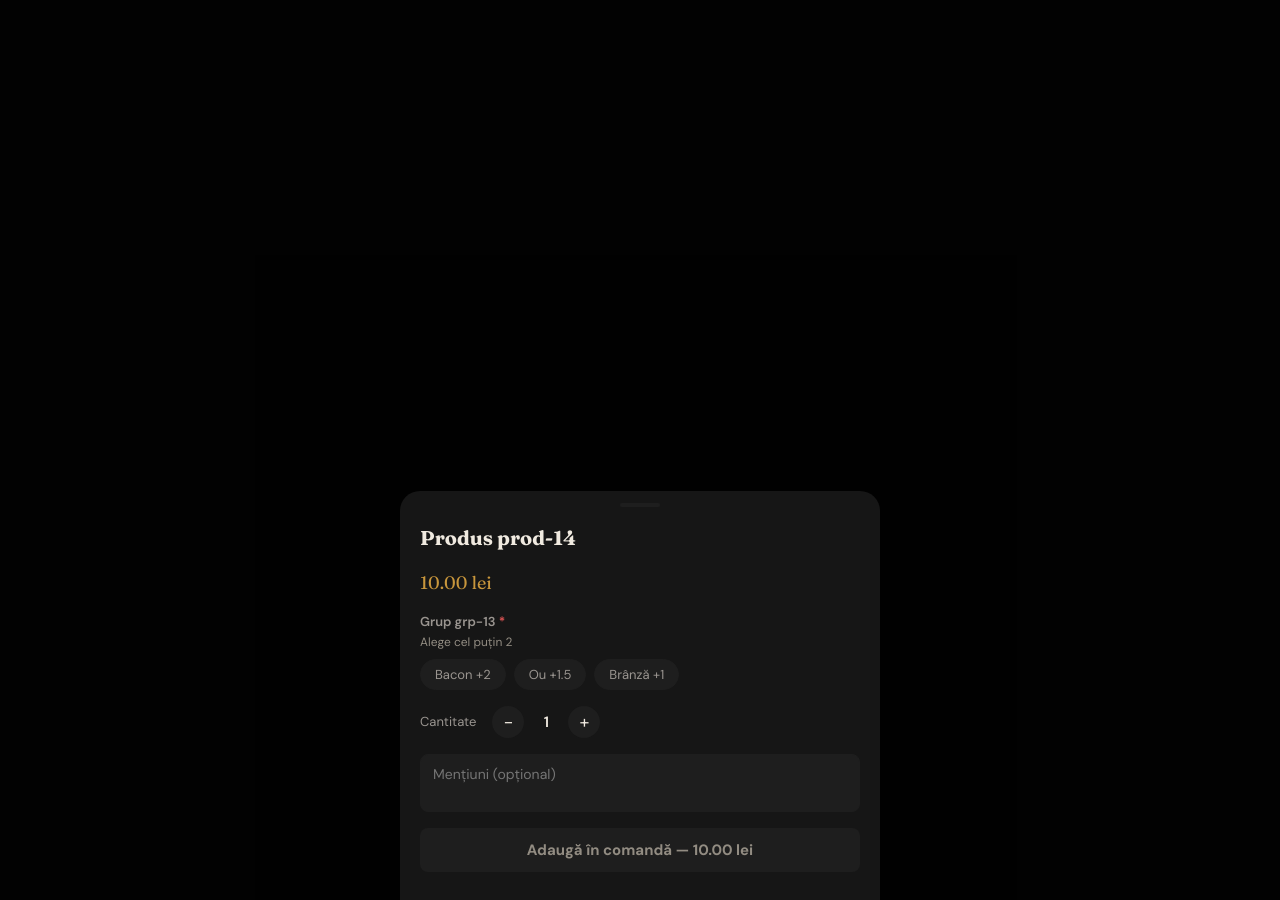
Test case: ModifierSheet — matematica banilor + gating server-parity › grup multiplu cu min_select=2: blocat sub 2 selecții, deblocat la 2
Check: the button "Adaugă în comandă — 10.00 lei" is disabled, box [420,828,860,872]
Click the button "Bacon +2" at (463, 674), box [420,659,506,690]
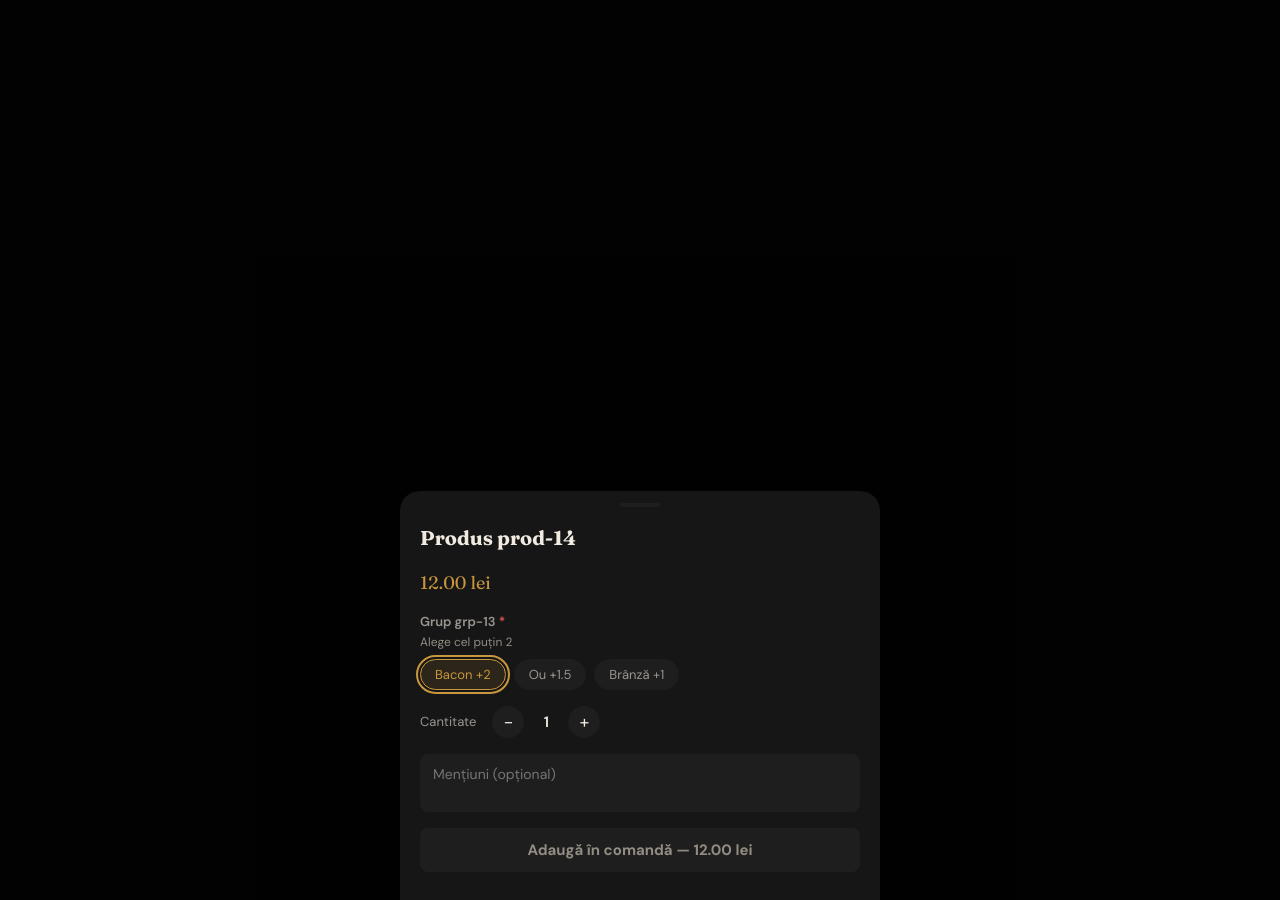
Check: the button "Adaugă în comandă — 12.00 lei" is disabled, box [420,828,860,872]
Click the button "Ou +1.5" at (550, 674), box [514,659,586,690]
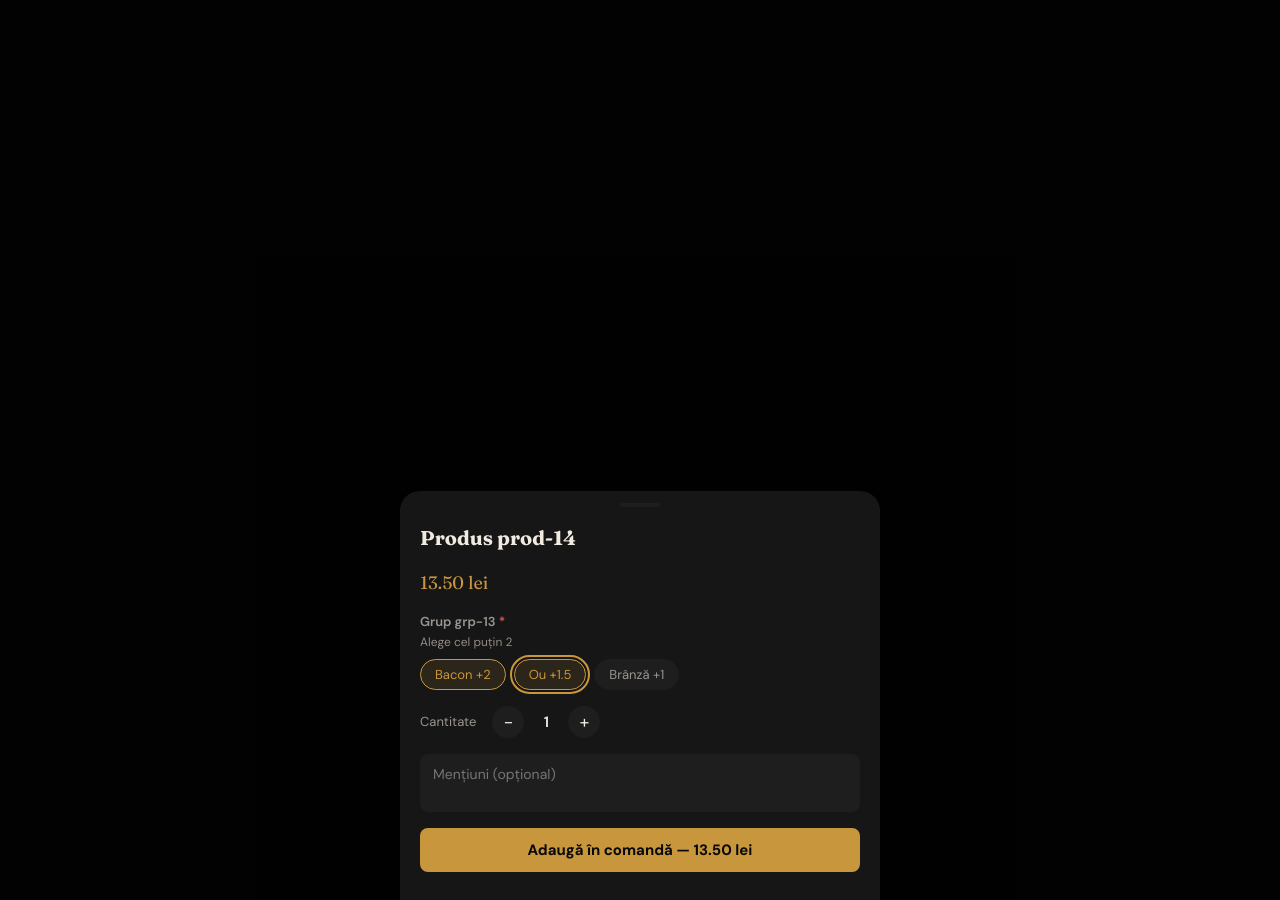
Check: the button "Adaugă în comandă — 13.50 lei" is enabled, box [420,828,860,872]
Check: the button "Adaugă în comandă — 13.50 lei" is shown, box [420,828,860,872]
